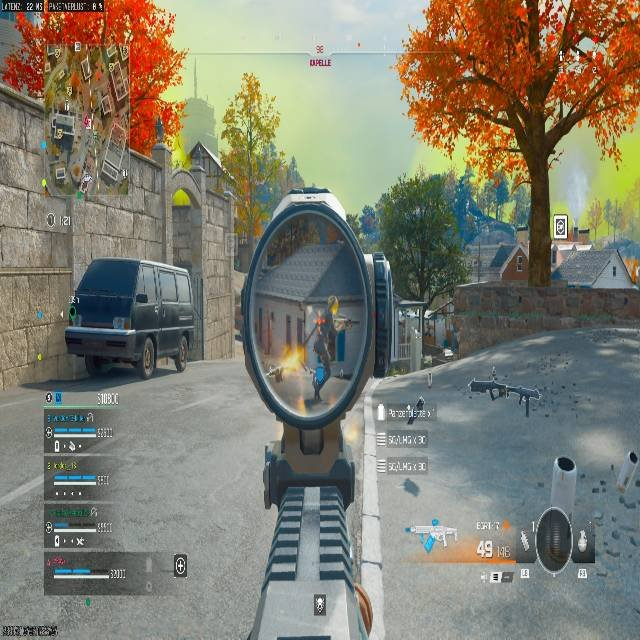player: (310, 300, 343, 400)
